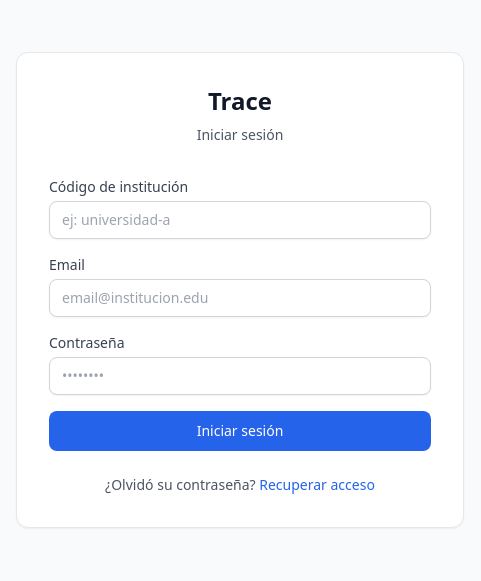
LoginPage › shows validation errors for empty fields
Click the button "Iniciar sesión". click: (240, 431)
box: x1=49 y1=411 x2=431 y2=451
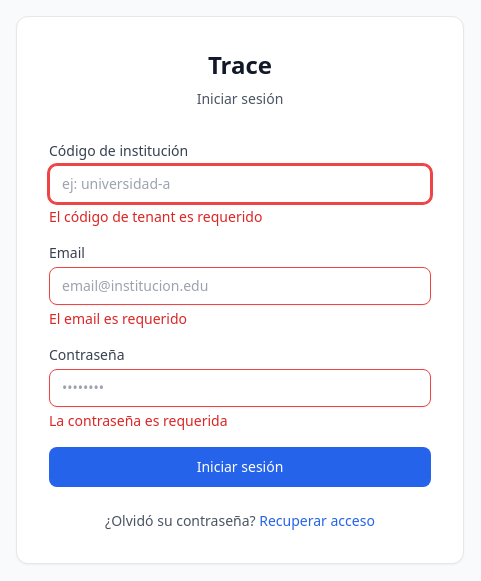
Expected: the text "El código de tenant es requerido" is shown, x1=49 y1=207 x2=262 y2=226
Expected: the text "El email es requerido" is shown, x1=49 y1=309 x2=187 y2=328
Expected: the text "La contraseña es requerida" is shown, x1=49 y1=411 x2=228 y2=430
